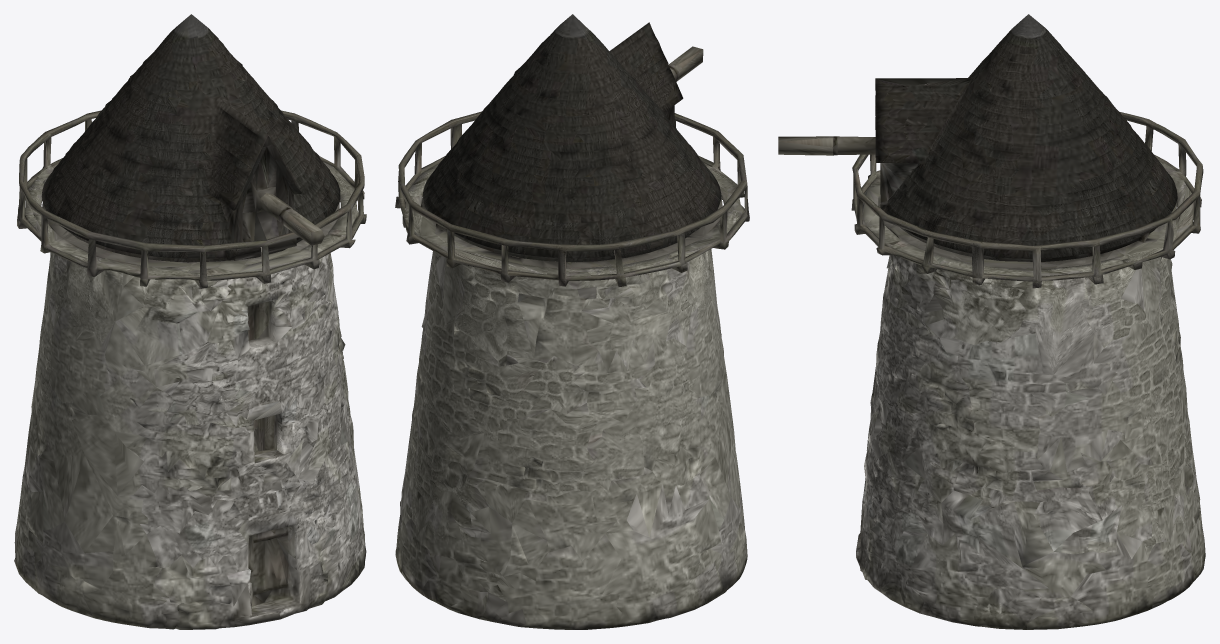
File: windmill.glb
The picture shows the model from 3 angles, left to right: view 1: azimuth 30°, elevation 25°; view 2: azimuth 150°, elevation 25°; view 3: azimuth 270°, elevation 25°; orthographic projection.
Visible parts, largest first — view 1: Mesh_0; view 2: Mesh_0; view 3: Mesh_0.
Part boxes in pixels (x1,y1,x2,y2): Mesh_0: [14, 14, 366, 629]; Mesh_0: [395, 14, 749, 629]; Mesh_0: [778, 14, 1205, 629].
Size of the model in its own units: 4.13 by 7 by 5.
1 material, 1 textured.
